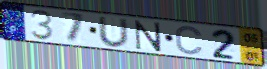2: (208, 27, 238, 62)
3: (29, 9, 55, 41)
7: (59, 10, 87, 44)
C: (174, 24, 205, 56)
N: (134, 19, 163, 53)
U: (97, 16, 131, 49)
